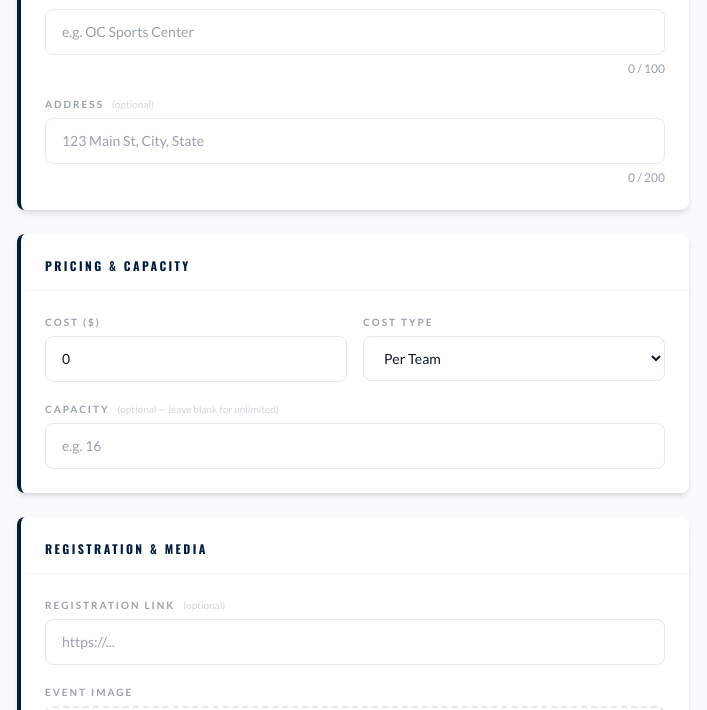
Test: EventForm — close button › cost field inline validation › shows error when user types non-numeric text
(page scrolled)
Type "free" into the field with placeholder "0" at (196, 359), box x1=45 y1=336 x2=347 y2=382
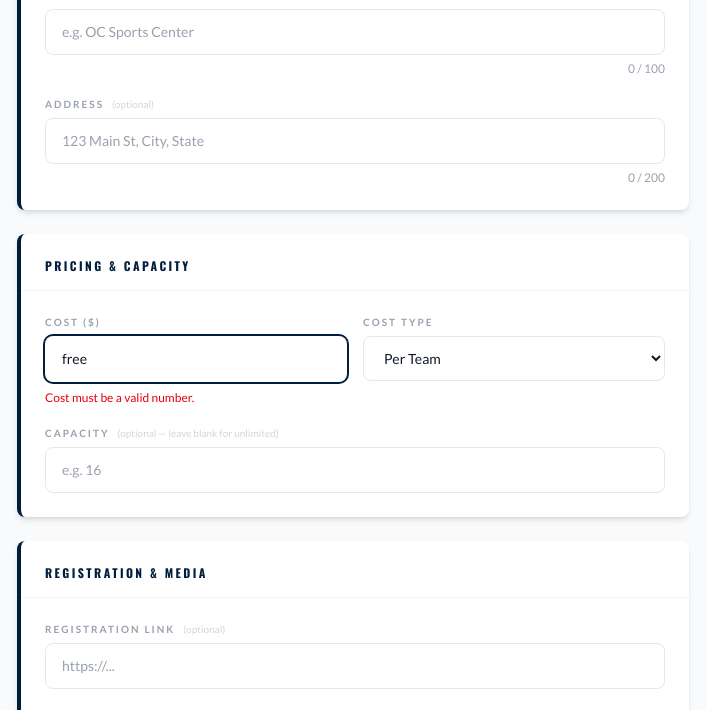
Expected: the text "Cost must be a valid number." is shown, x1=45 y1=390 x2=194 y2=405
